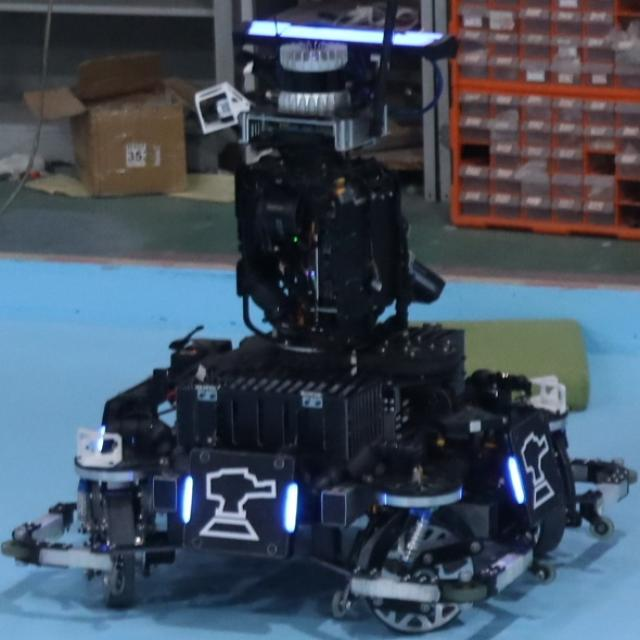Bs: (182, 458, 300, 556), (508, 426, 560, 509)
